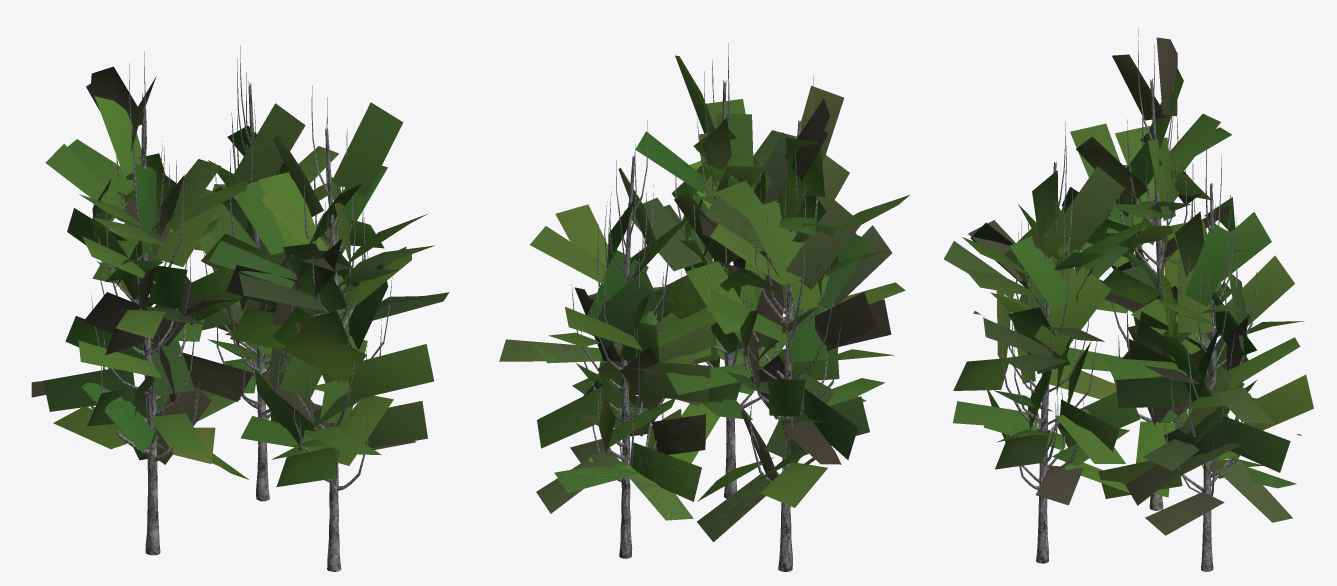
The model's file is birch.gltf.
The picture shows the model from 3 angles, left to right: view 1: azimuth 30°, elevation 25°; view 2: azimuth 150°, elevation 25°; view 3: azimuth 270°, elevation 25°; orthographic projection. The views are drawn at different scales.
Parts seen in each view (by area): view 1: birch_32_StaticMeshComponent0; view 2: birch_32_StaticMeshComponent0; view 3: birch_32_StaticMeshComponent0.
Part boxes in pixels (left/top/right/bottom): birch_32_StaticMeshComponent0: left=31, top=46, right=448, bottom=571; birch_32_StaticMeshComponent0: left=499, top=43, right=910, bottom=571; birch_32_StaticMeshComponent0: left=944, top=28, right=1313, bottom=571.
Size of the model in its own units: 9.31 by 13.32 by 9.56.
Materials: 2 (2 with a texture image).
